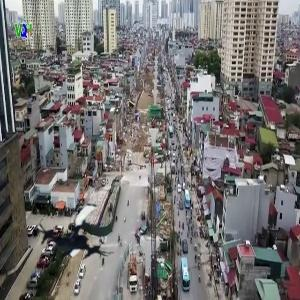drone: (39, 192, 124, 277)
